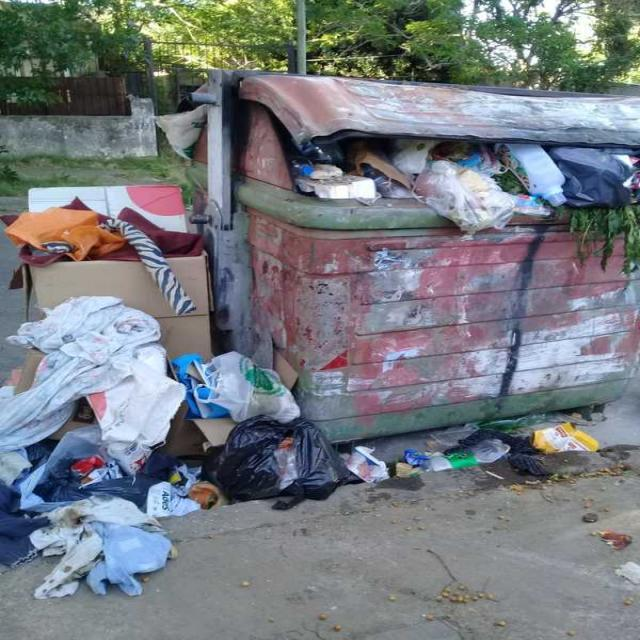high trash: (0, 198, 598, 598)
